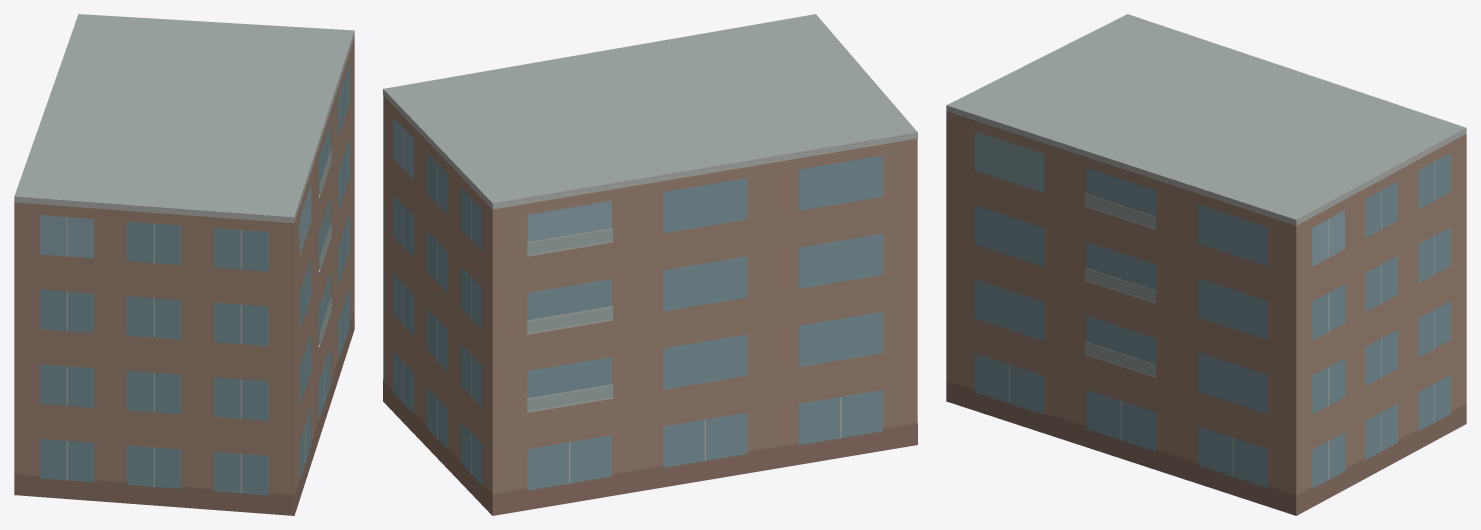
Rendered from survey-upis-32842894.glb.
The picture shows the model from 3 angles, left to right: view 1: azimuth 30°, elevation 25°; view 2: azimuth 150°, elevation 25°; view 3: azimuth 270°, elevation 25°; orthographic projection. The views are drawn at different scales.
Parts seen in each view (by area): view 1: survey-upis-32842894.tmp; view 2: survey-upis-32842894.tmp; view 3: survey-upis-32842894.tmp.
Part boxes in pixels (x1=…): survey-upis-32842894.tmp: x1=14, y1=14, x2=354, y2=515; survey-upis-32842894.tmp: x1=383, y1=14, x2=917, y2=515; survey-upis-32842894.tmp: x1=946, y1=14, x2=1466, y2=515.
Bounding box in the file's own units: 18.21 × 12.2 × 19.44.
